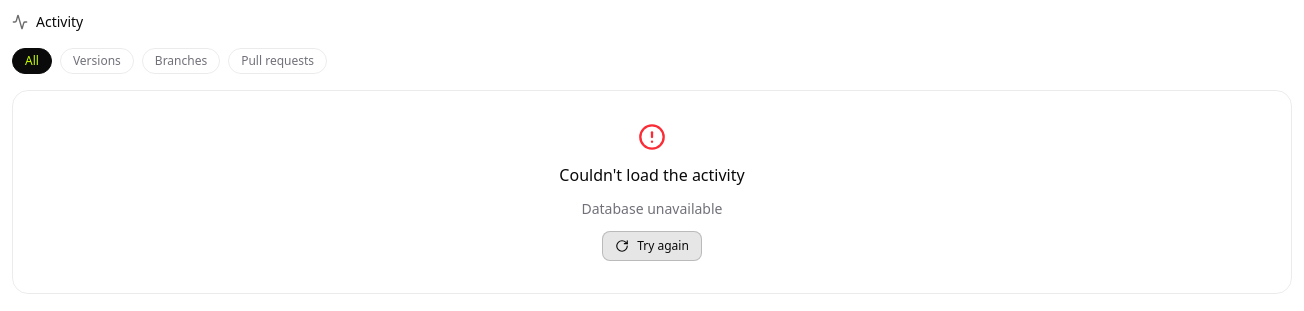
ActivityFeed › shows the error with a retry
expect the message shows "Database unavailable": met, box [582,199,722,218]
Step 1. Click the button "Try again" → (652, 246), box [602,231,702,261]
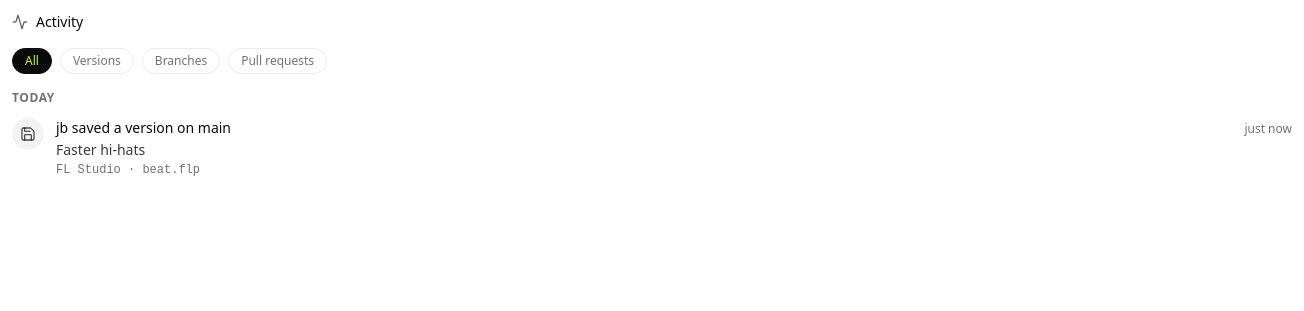
expect the text "Faster hi-hats" is shown: met, box [56,140,145,159]
